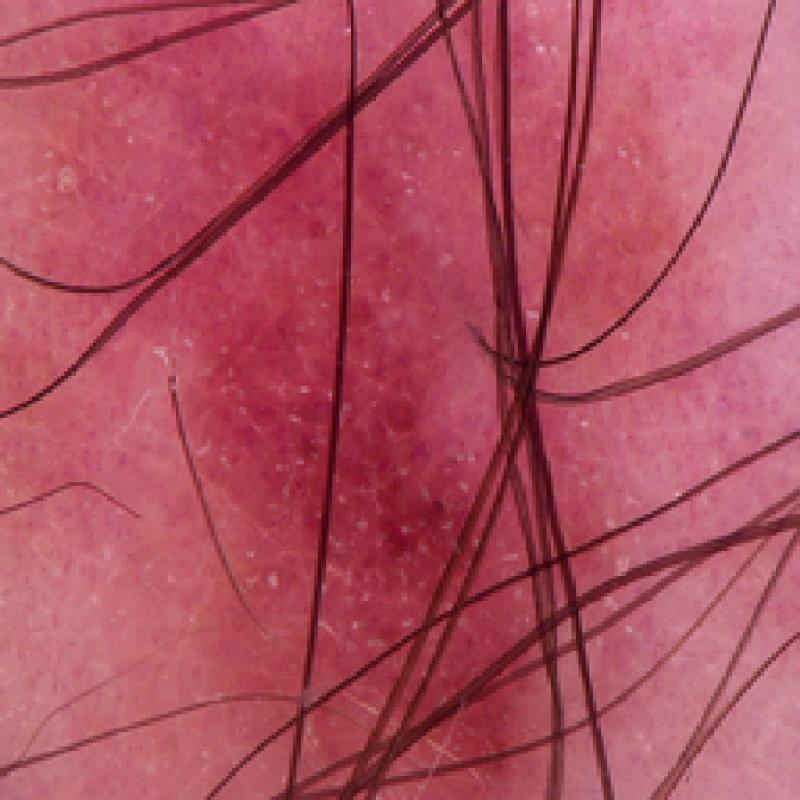benign: (52, 2, 734, 800)
